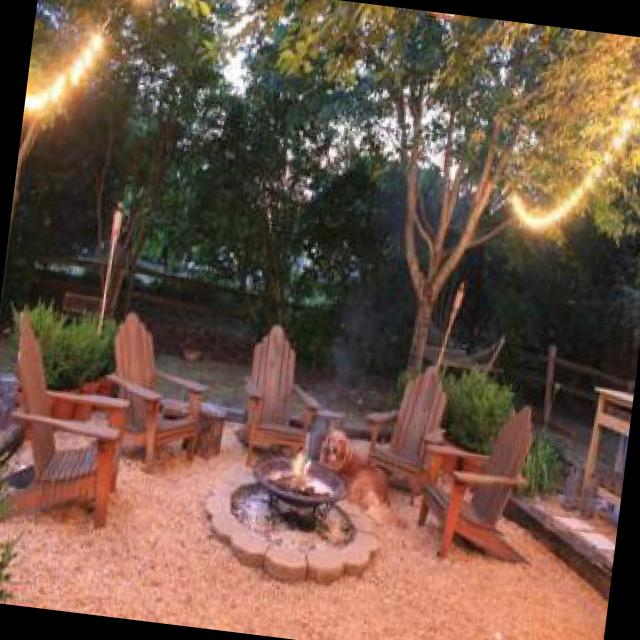Fire: (280, 443, 326, 501)
